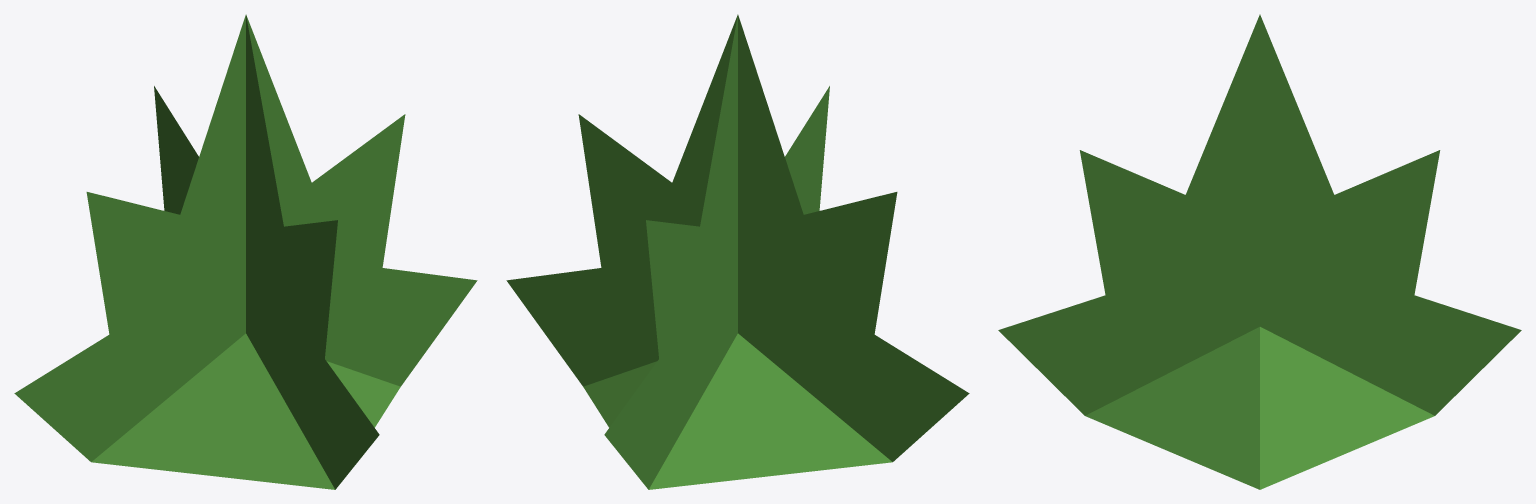
The model's file is plant_flatShort.glb.
3 renders of one model, left to right at view 1: azimuth 30°, elevation 25°; view 2: azimuth 150°, elevation 25°; view 3: azimuth 270°, elevation 25°, orthographic. The views are drawn at different scales.
Parts seen in each view (by area): view 1: plant_flatShort; view 2: plant_flatShort; view 3: plant_flatShort.
Part boxes in pixels (bbox=[...]): plant_flatShort: bbox=[14, 14, 477, 489]; plant_flatShort: bbox=[506, 14, 969, 489]; plant_flatShort: bbox=[998, 14, 1521, 489].
Size of the model in its own units: 0.2776 by 0.2351 by 0.2776.
